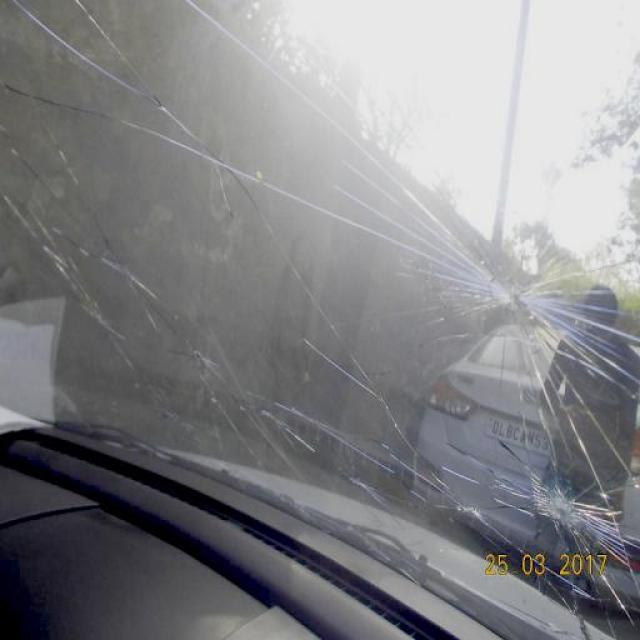Car-Damage: (492, 451, 639, 573), (471, 263, 606, 363)
